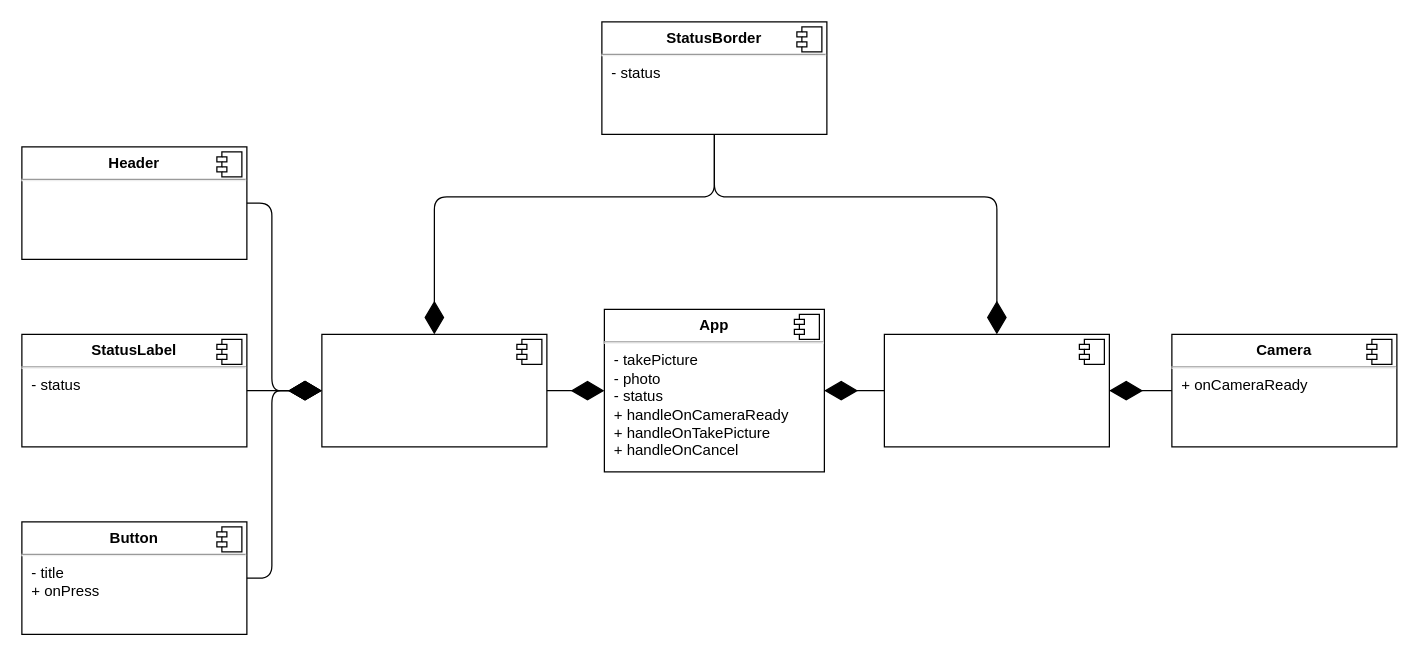
The diagram is 1419 pixels wide and 656 high, and some of its shapes have lost their labels. Each missing label, with the centre of its shape:
"Home - status - photo + onTakePicture" goes at pixel 434 390.
"IDPictureCapturer - status - onCameraReady + onCancel" goes at pixel 996 390.
